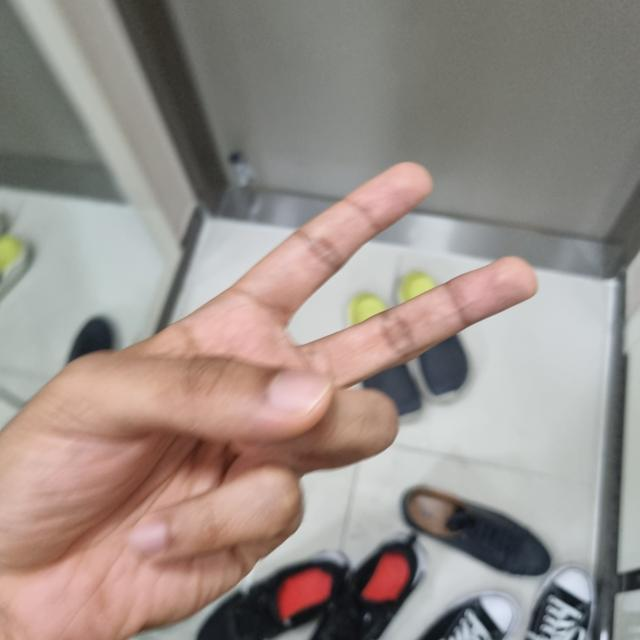Scissors: (0, 167, 534, 640)
